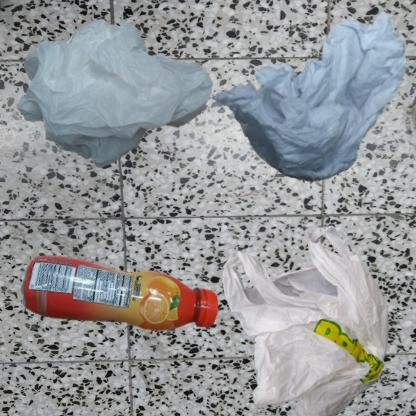bolsa: (213, 213, 416, 416), (10, 10, 226, 185)
botella: (10, 213, 287, 416)
papel: (213, 10, 409, 184)
